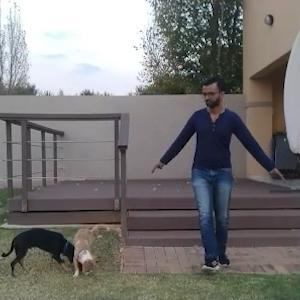land: (150, 83, 287, 271)
